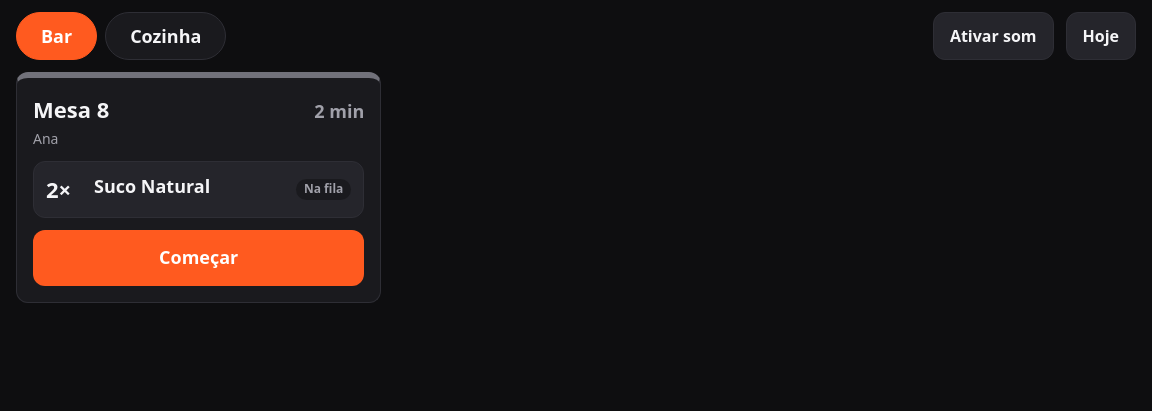
TelaProducao › sem estação guardada abre a primeira e guarda a escolhida
Expected: the element "Mesa 8" is shown, [16, 72, 381, 303]
Click the button "Cozinha" at (166, 36), box [105, 12, 226, 60]
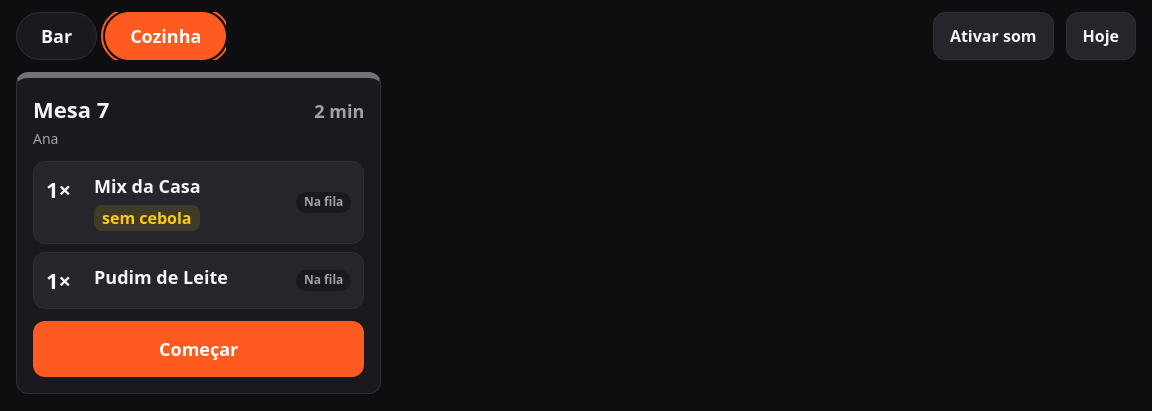
Expected: the element "Mesa 7" is shown, [16, 72, 381, 394]
